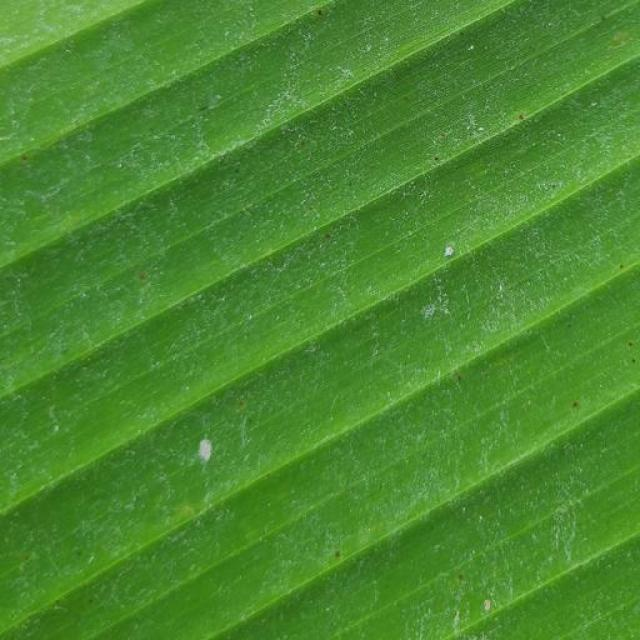Black_leaf_spot: (5, 0, 640, 617)
